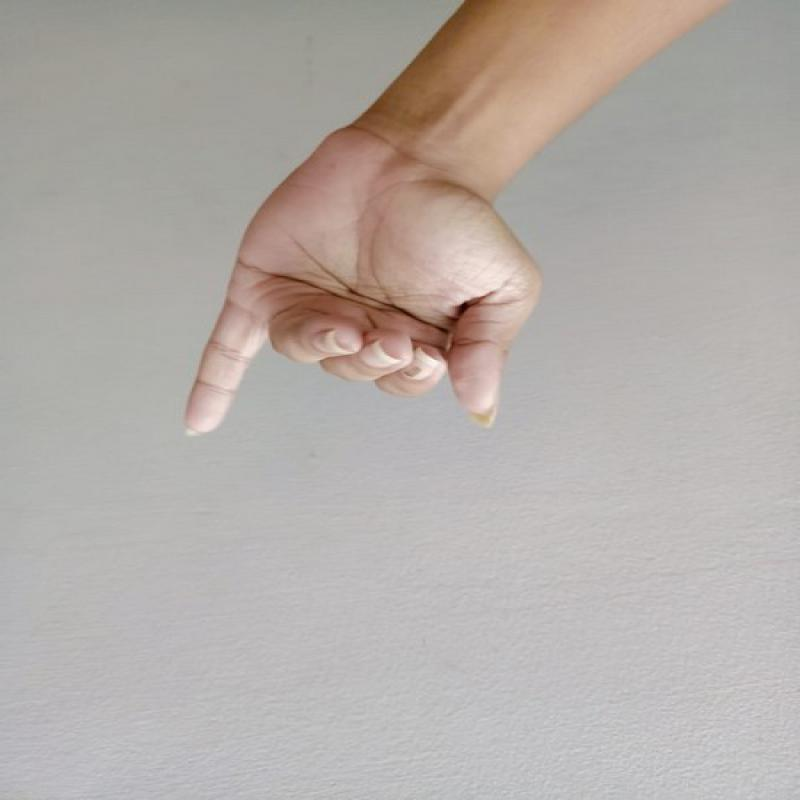Kartharee Mukham: (142, 123, 557, 451)
